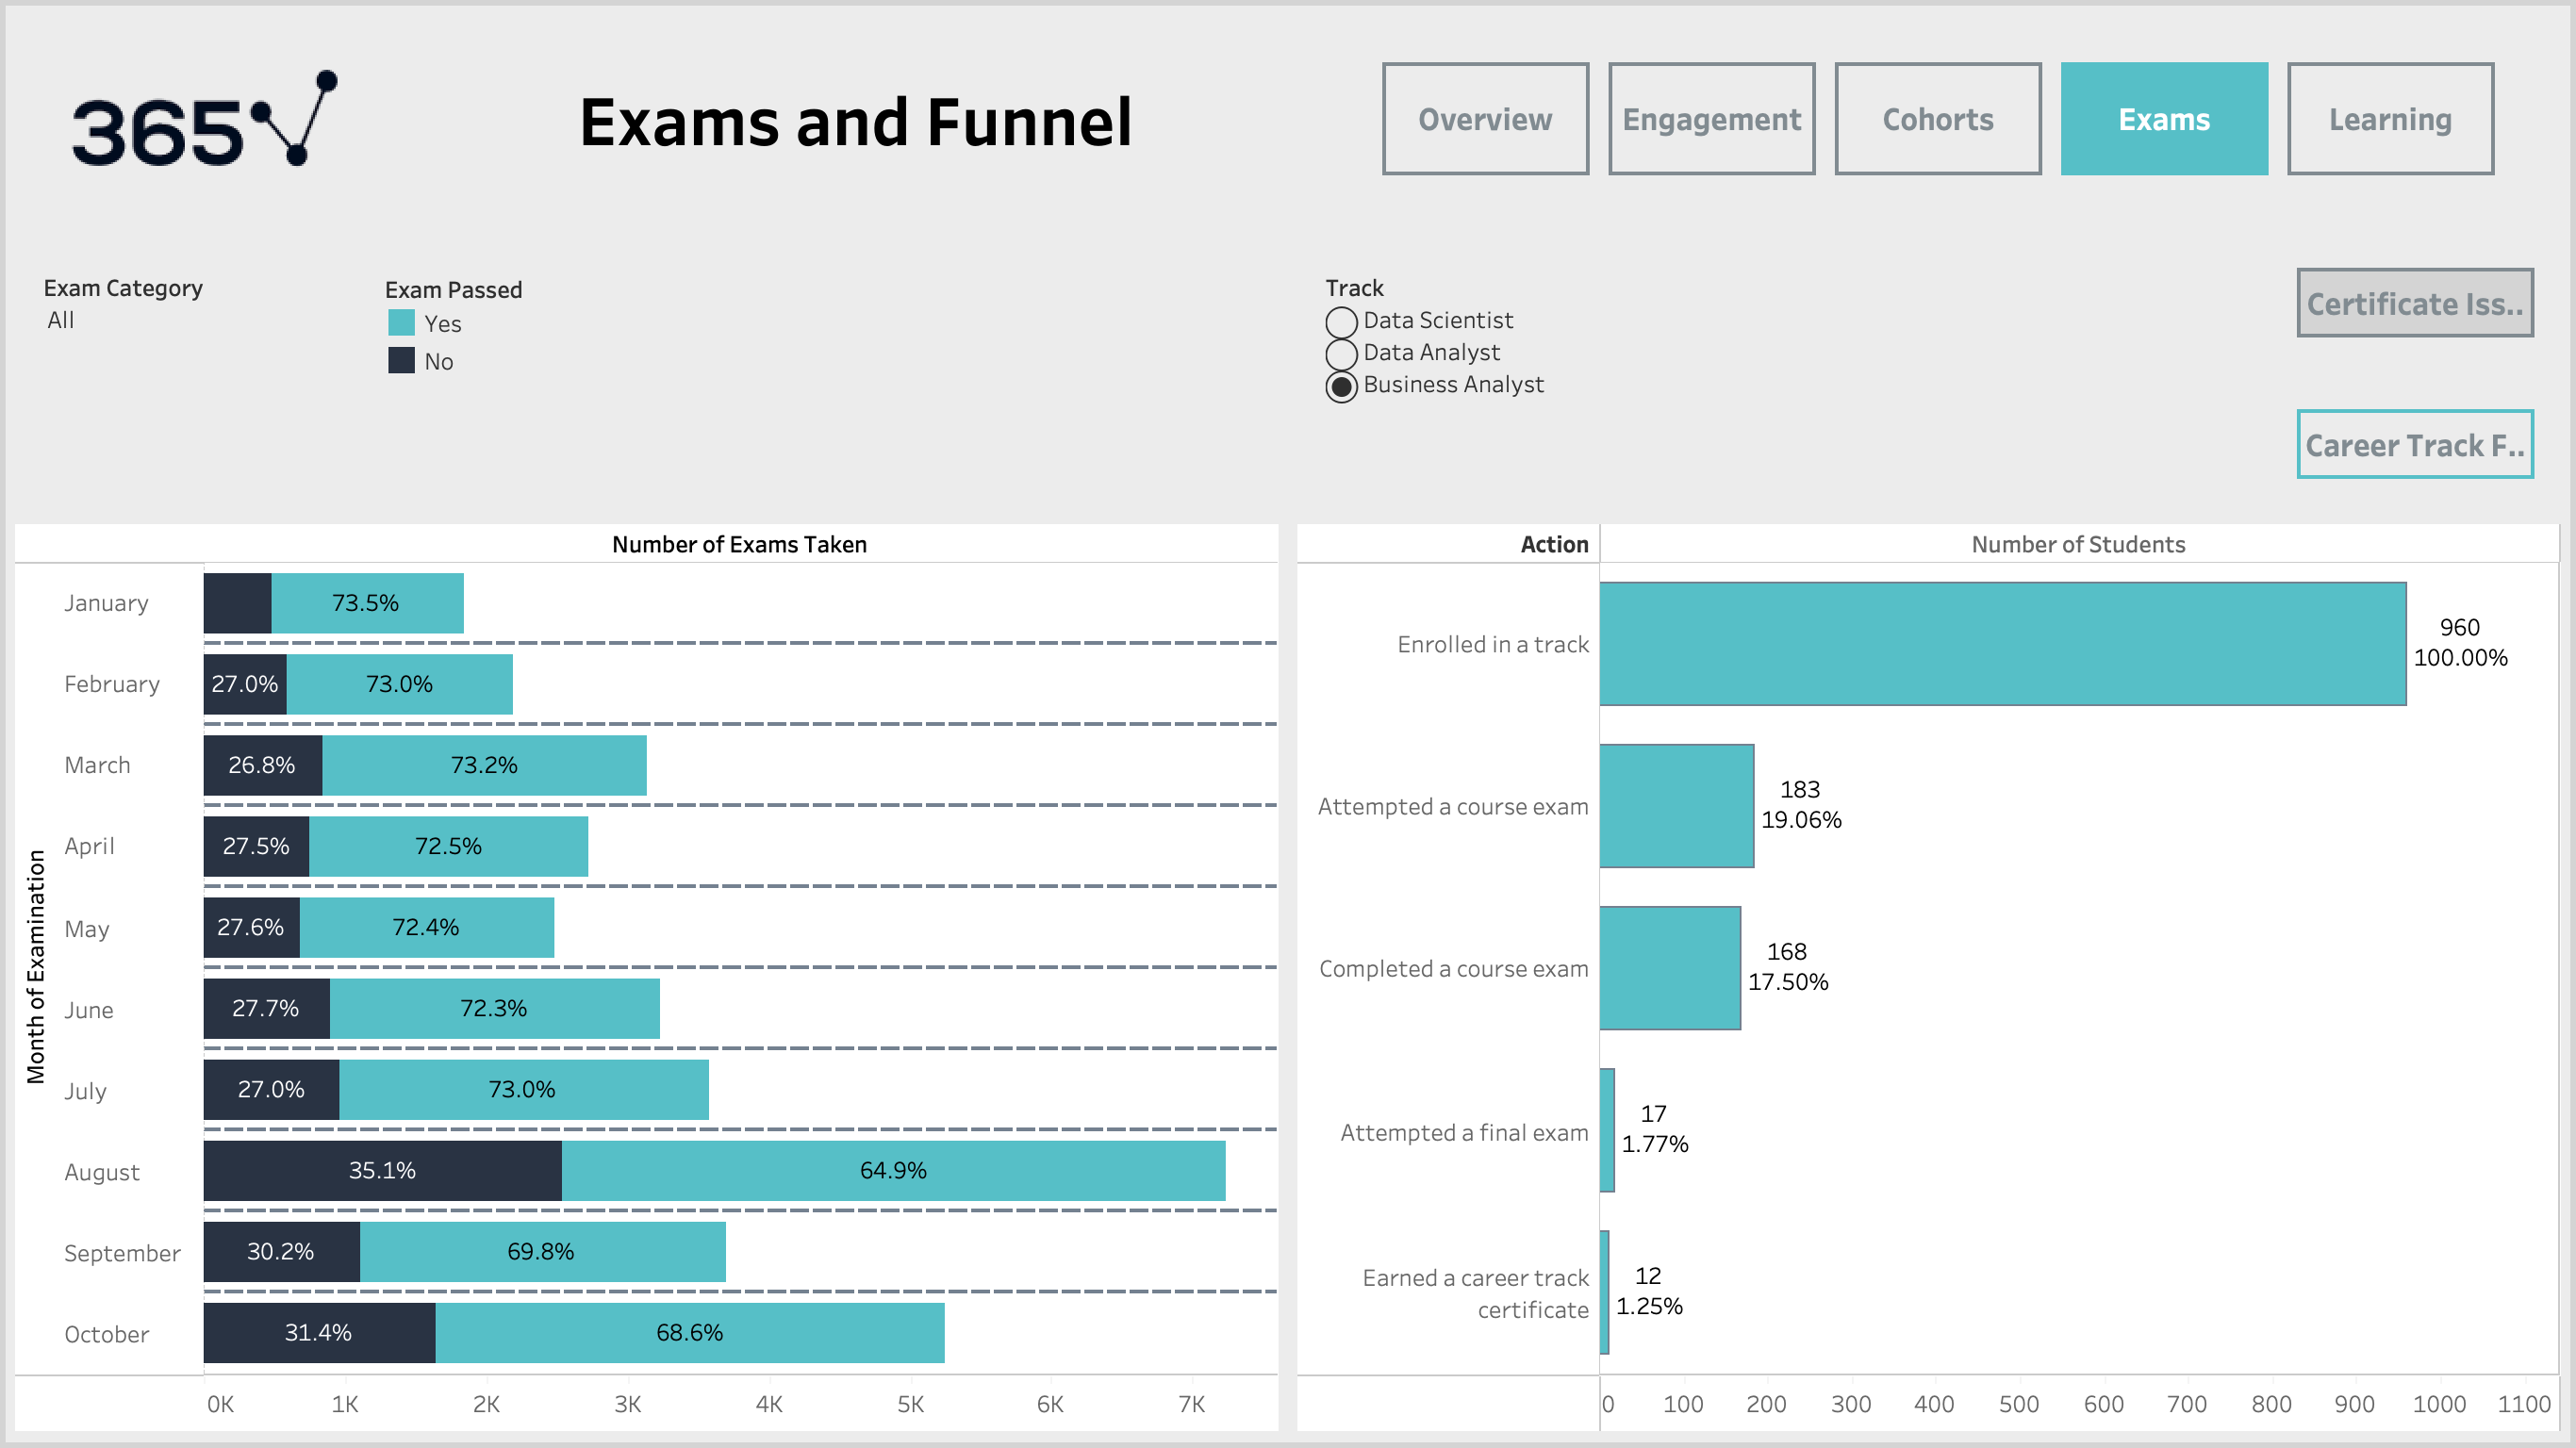

This screenshot's page, from the dashboard's own definition file:
{"tool":"tableau","page":{"name":"Exams and Funnel ","canvas":[1366,768],"ordinal":5},"visuals":[{"type":"image","param":"/Users/ayush/Downloads/images/logo.png","box":[38,28,142,70]},{"type":"text","box":[180,28,548,70]},{"type":"dashboard-object","box":[728,28,120,70]},{"type":"dashboard-object","box":[848,28,120,70]},{"type":"dashboard-object","box":[968,28,120,70]},{"type":"dashboard-object","box":[1088,28,120,70]},{"type":"dashboard-object","box":[1208,28,120,70]},{"type":"filter","title":"exam attempt","param":"[federated.1nr7plx0lf4szy11jzyjj1xi9nt0].[none:exam_category:ok]","box":[3,123,180,150]},{"type":"legend","title":"exam attempt","param":"[federated.1nr7plx0lf4szy11jzyjj1xi9nt0].[none:exam_passed:ok]","box":[183,123,200,150]},{"type":"filter","title":"career track funnel","param":"[federated.1t7sjp212tt1k416pcpm81v8oiiz].[none:track:ok]","box":[683,123,180,150]},{"type":"blank","box":[863,123,336,150]},{"type":"dashboard-object","box":[1199,123,164,75]},{"type":"dashboard-object","box":[1199,198,164,75]},{"type":"worksheet","title":"exam attempt","mark":"Bar","rows":["Calculation_263882797798649858","date_exam_completed"],"cols":["Calculation_263882797800243206","exam_attempt_id"],"box":[3,273,680,492]},{"type":"worksheet","title":"career track funnel","mark":"Automatic","rows":["action"],"cols":["Calculation_263882797816926222","count"],"box":[683,273,680,492]}]}

Visuals, with their boxes in screenshot pixels (x1, y1, x2, y2), scaled from the page's 1366x768 canvas onto the 2576x1448 screenshot:
image: select_region(72, 53, 339, 185)
text: select_region(339, 53, 1373, 185)
dashboard-object: select_region(1373, 53, 1599, 185)
dashboard-object: select_region(1599, 53, 1825, 185)
dashboard-object: select_region(1825, 53, 2052, 185)
dashboard-object: select_region(2052, 53, 2278, 185)
dashboard-object: select_region(2278, 53, 2504, 185)
"exam attempt" filter: select_region(6, 232, 345, 515)
"exam attempt" legend: select_region(345, 232, 722, 515)
"career track funnel" filter: select_region(1288, 232, 1627, 515)
blank: select_region(1627, 232, 2261, 515)
dashboard-object: select_region(2261, 232, 2570, 373)
dashboard-object: select_region(2261, 373, 2570, 515)
"exam attempt" worksheet (Bar marks): select_region(6, 515, 1288, 1442)
"career track funnel" worksheet: select_region(1288, 515, 2570, 1442)
